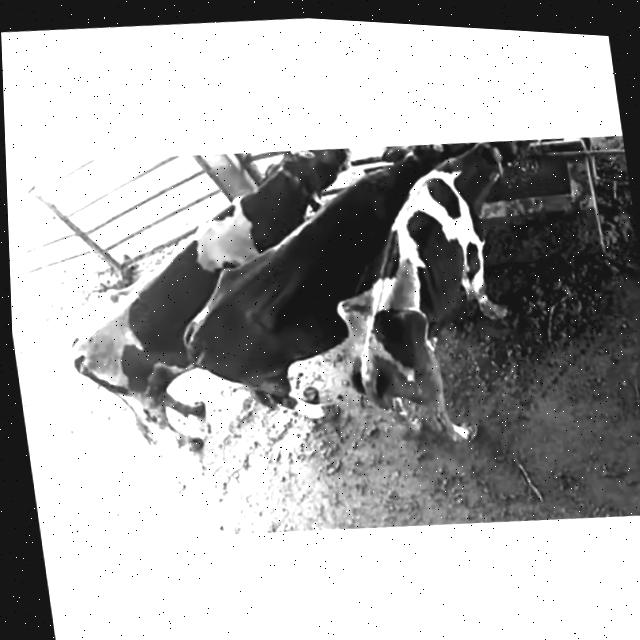drink: (340, 135, 472, 220)
